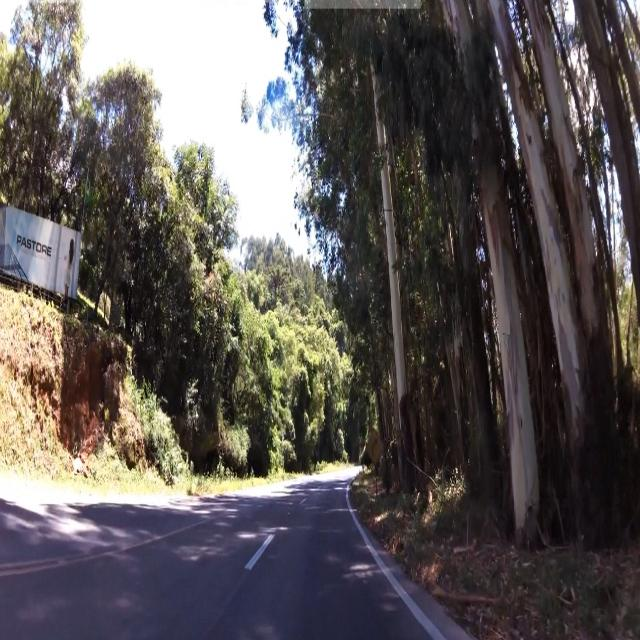A-2b: (365, 425, 383, 469)
